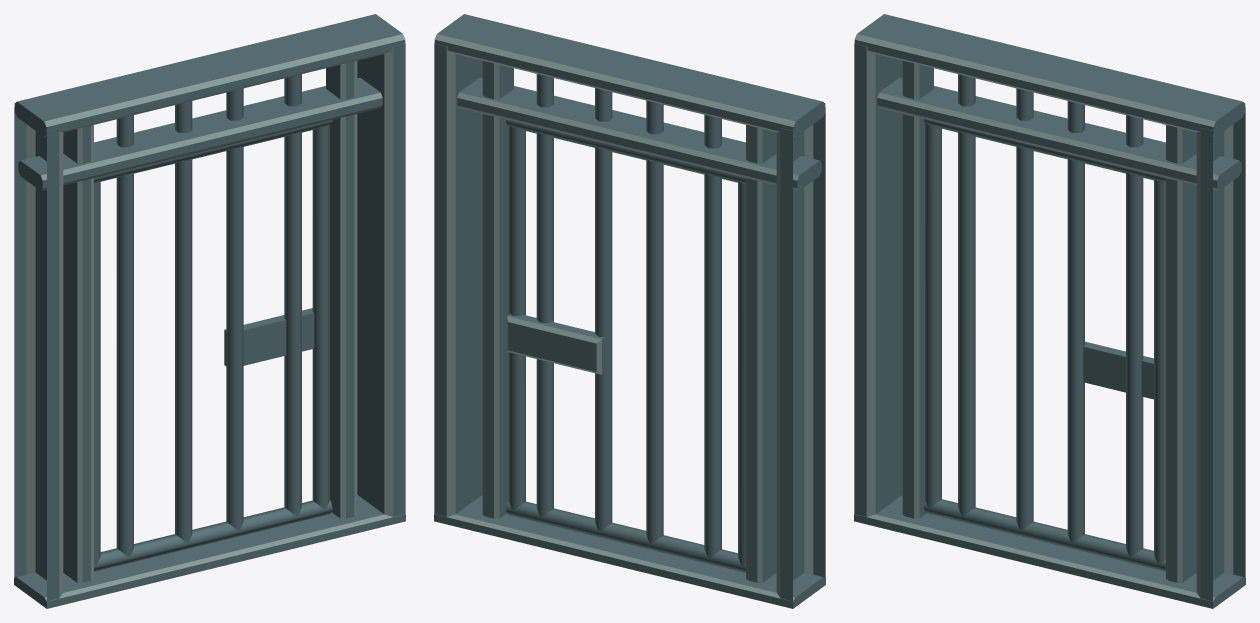
The model's file is PrisonGrid.fbx.
The picture shows the model from 3 angles, left to right: view 1: azimuth 30°, elevation 25°; view 2: azimuth 150°, elevation 25°; view 3: azimuth 330°, elevation 25°; orthographic projection.
Visible parts, largest first — view 1: PrisonGrid, PrisonGridDoor; view 2: PrisonGrid, PrisonGridDoor; view 3: PrisonGrid, PrisonGridDoor.
Boxes of the visible parts, x1,y1,x2,y2 form: PrisonGrid: [14, 14, 405, 608]; PrisonGridDoor: [94, 120, 332, 571]; PrisonGrid: [434, 14, 825, 608]; PrisonGridDoor: [506, 119, 745, 572]; PrisonGrid: [854, 14, 1245, 608]; PrisonGridDoor: [923, 119, 1165, 571].
Bounding box in the file's own units: 155 × 200 × 24.47.
